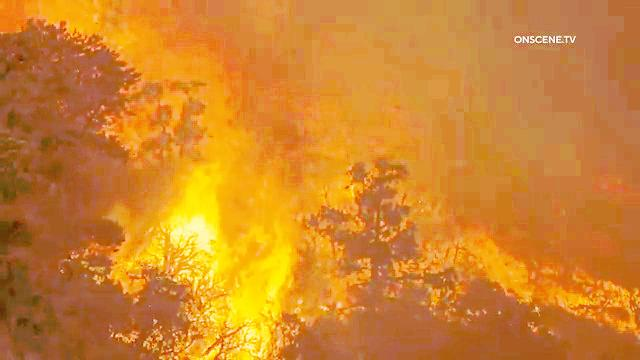fire: (79, 152, 285, 360)
